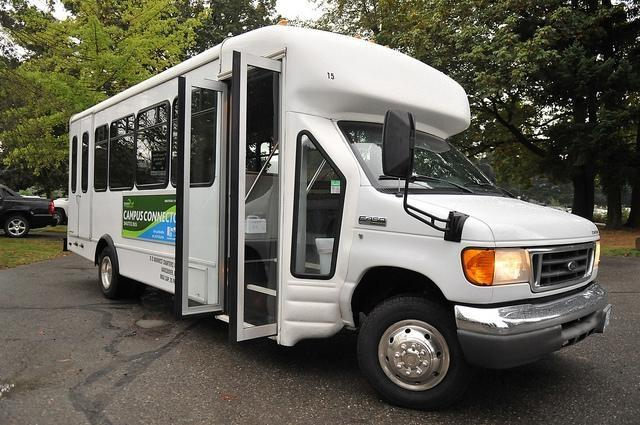bus: (63, 24, 612, 408)
car: (0, 183, 60, 238)
truck: (53, 198, 64, 226)
